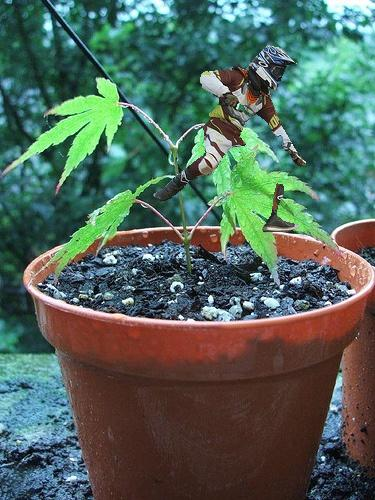tampered: (154, 46, 306, 232)
